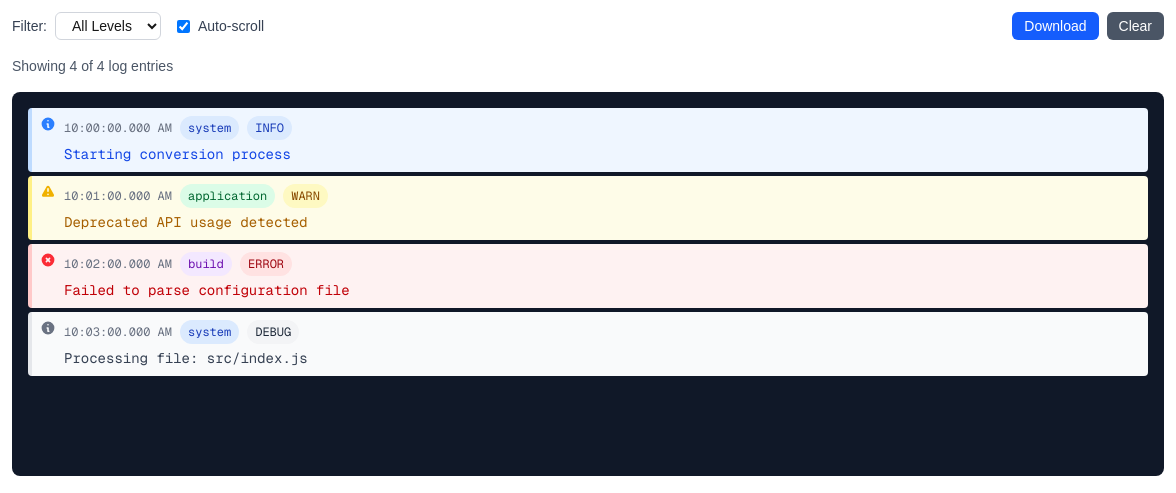
Scenario: ConversionLogs › filters logs by level
Select "Errors" in the dropdown labelled "Filter:": x=108, y=26 55,12 -> 161,40
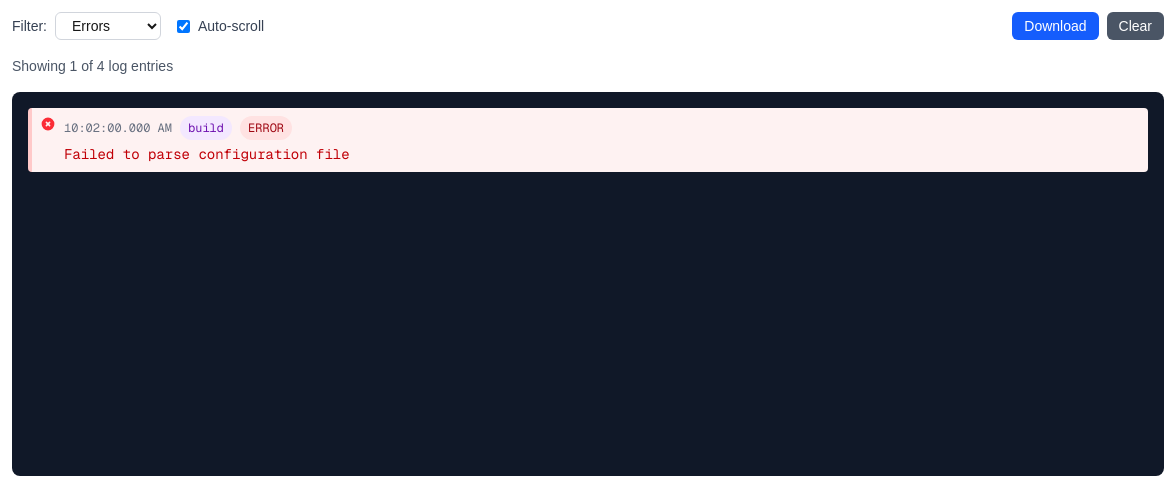
expect the text "Failed to parse configuration file" is shown: met, box 64,145 -> 350,163
expect the text "Showing 1 of 4 log entries" is shown: met, box 12,58 -> 173,74
expect the text "Starting conversion process" is gone: met
